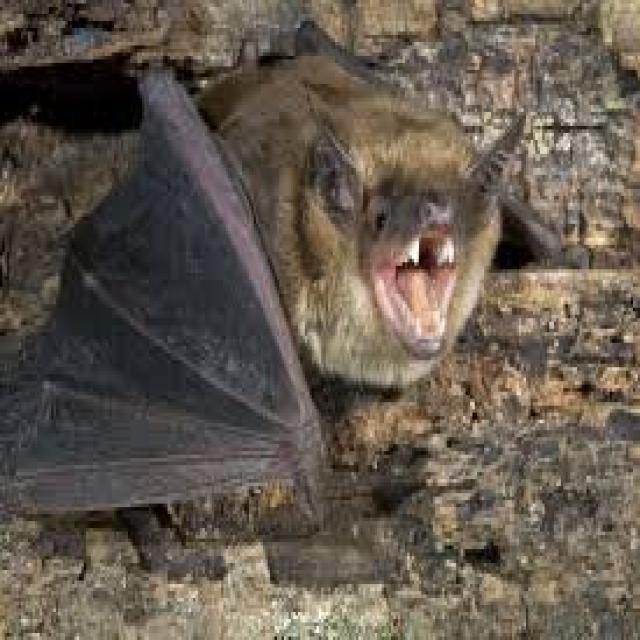Bat: (8, 55, 540, 508)
